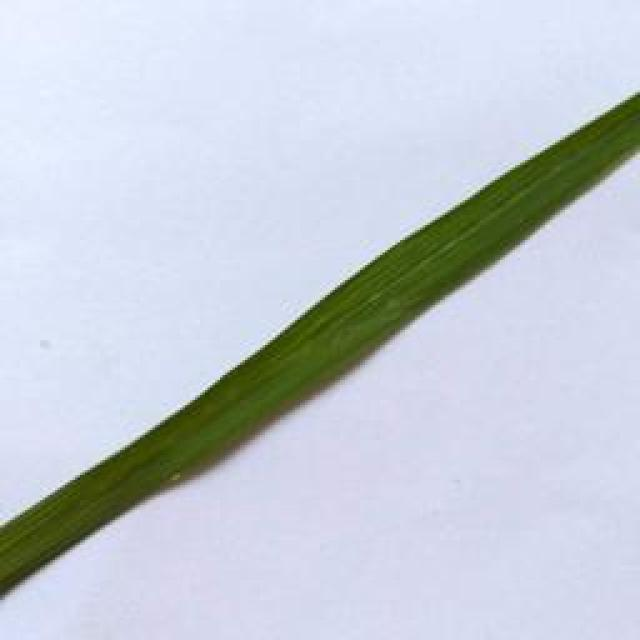Healthy-Plant: (0, 92, 640, 584)
